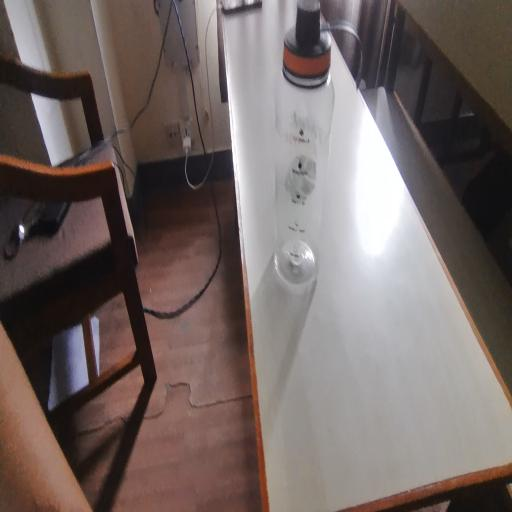Bottle: (277, 32, 334, 330)
